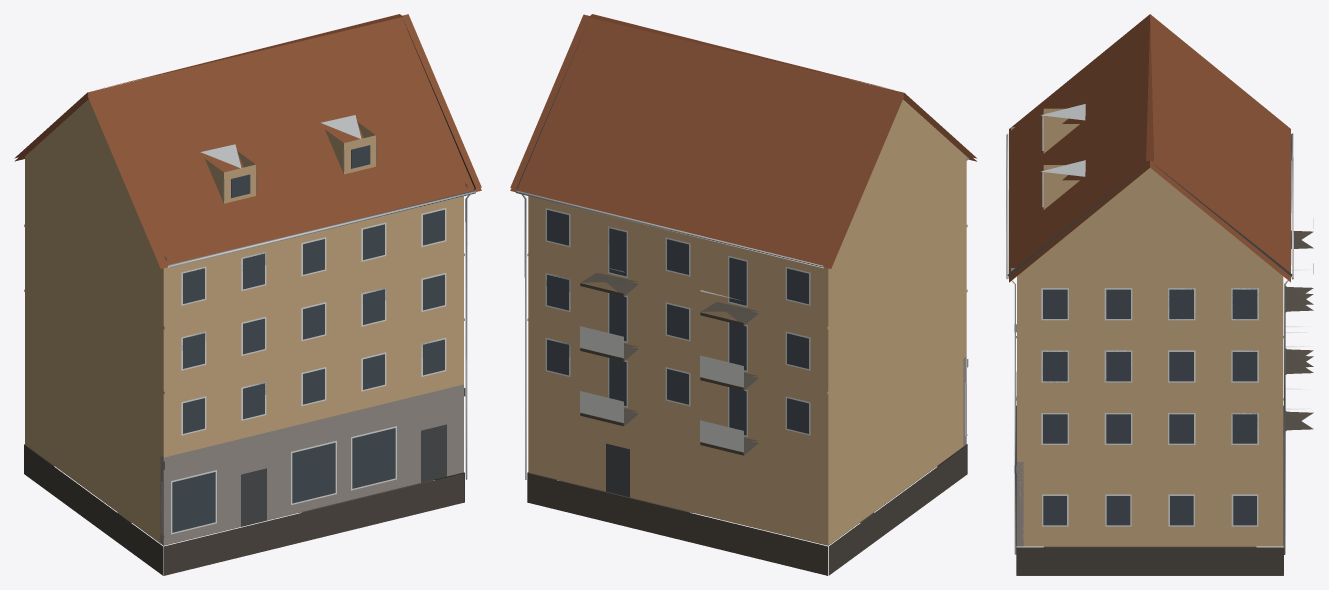
The model's file is block-row-4-end-e-lod1.glb.
3 renders of one model, left to right at view 1: azimuth 30°, elevation 25°; view 2: azimuth 150°, elevation 25°; view 3: azimuth 270°, elevation 25°, orthographic. The views are drawn at different scales.
Visible parts, largest first — view 1: block-row-4-end-e-plaster0; view 2: block-row-4-end-e-plaster0; view 3: block-row-4-end-e-plaster0.
Part boxes in pixels (x1,y1,x2,y2): block-row-4-end-e-plaster0: (14, 14, 481, 575); block-row-4-end-e-plaster0: (510, 14, 976, 575); block-row-4-end-e-plaster0: (1006, 14, 1313, 575).
Bounding box in the file's own units: 16.05 × 20.78 × 13.89.
